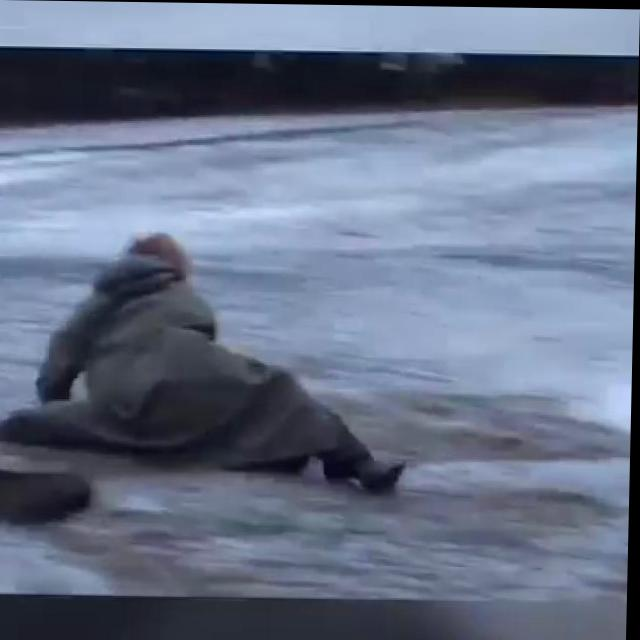fall: (6, 218, 424, 497)
